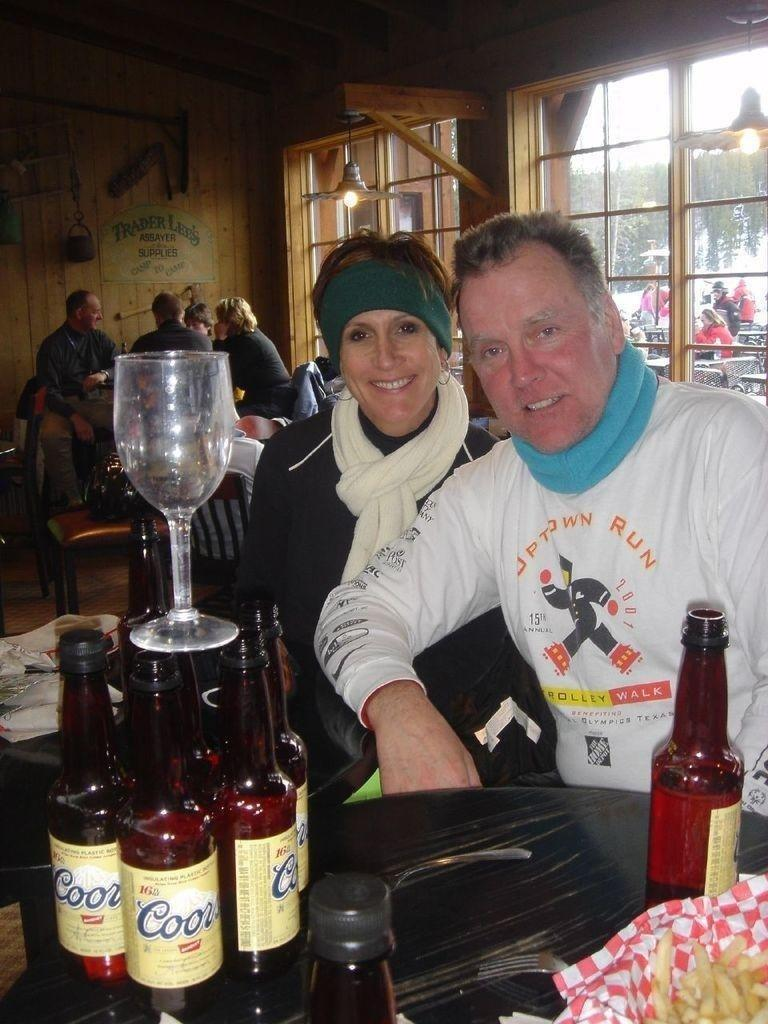bottle-glass: (117, 660, 225, 988), (214, 648, 305, 973), (646, 604, 747, 894), (44, 632, 125, 982)
glass-wine: (111, 345, 246, 648)
